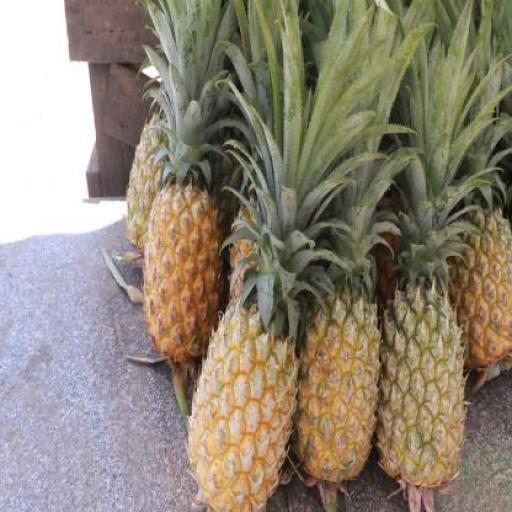------------------------------: (376, 292, 466, 498)
Pineapple - v8 v1: (188, 303, 294, 511), (296, 296, 382, 488), (142, 184, 217, 372), (453, 216, 512, 370)
